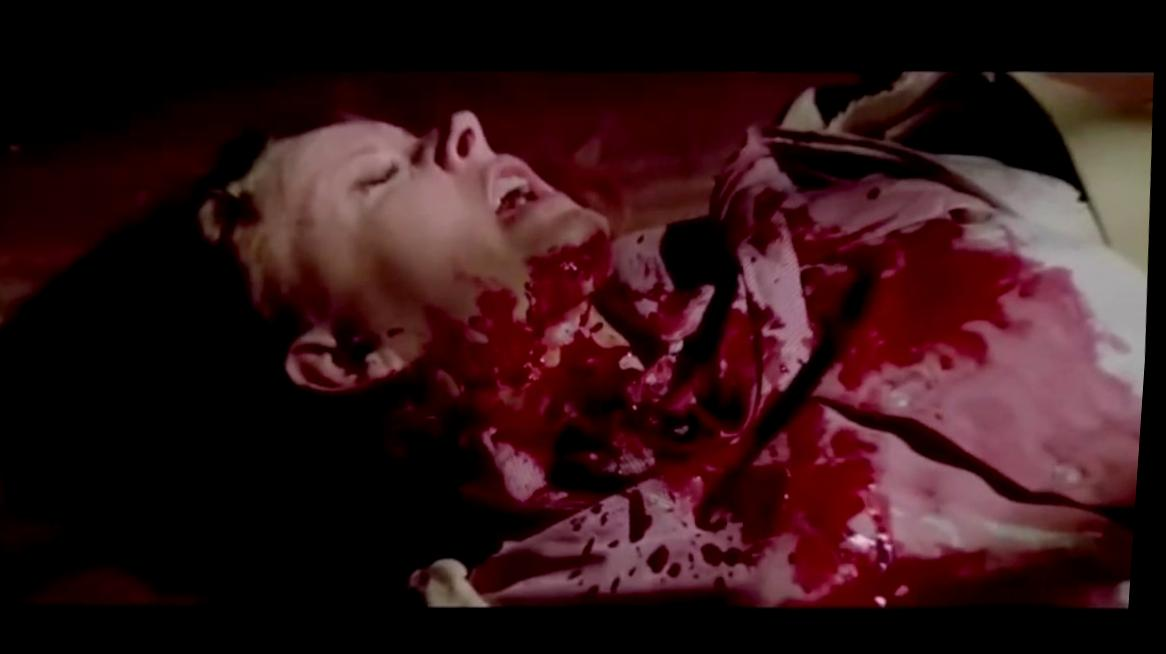Fire: (422, 118, 1149, 597)
